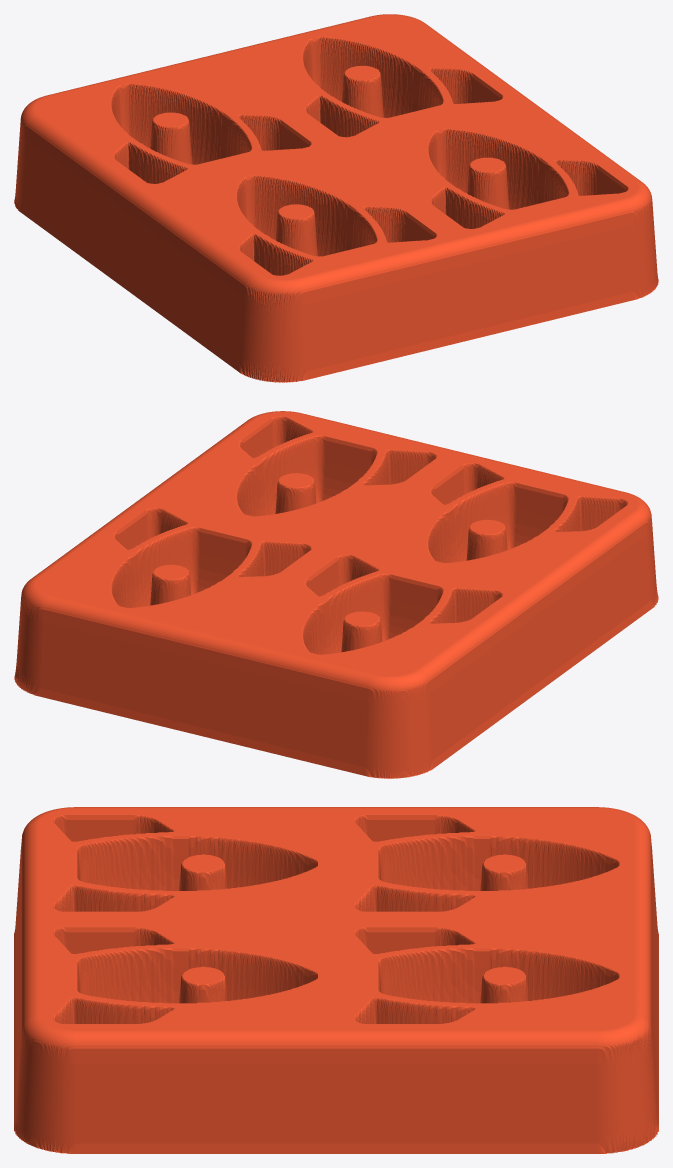
The model's file is mold.glb.
The picture shows the model from 3 angles, top to bottom: view 1: azimuth 30°, elevation 25°; view 2: azimuth 150°, elevation 25°; view 3: azimuth 270°, elevation 25°; orthographic projection. The views are drawn at different scales.
Visible parts, largest first — view 1: geometry_0; view 2: geometry_0; view 3: geometry_0.
Part boxes in pixels (bbox=[...]): geometry_0: bbox=[14, 14, 658, 382]; geometry_0: bbox=[14, 411, 658, 778]; geometry_0: bbox=[14, 807, 658, 1153].
Size of the model in its own units: 0.0838 by 0.0182 by 0.0942.
